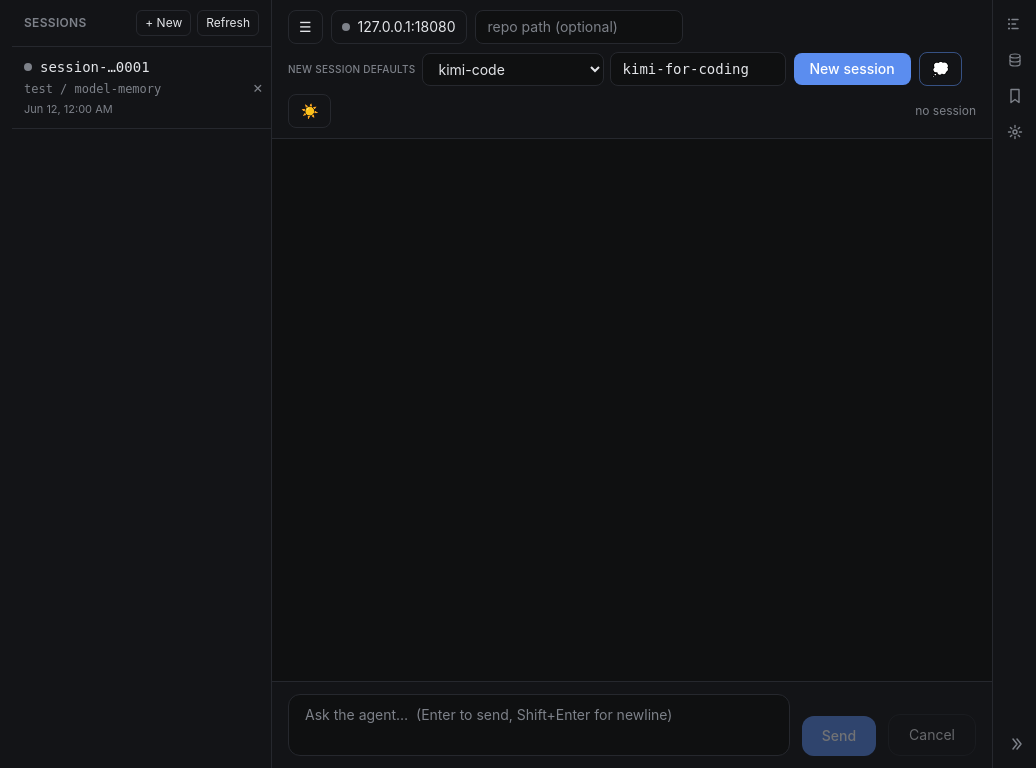
Test: App session switching › applies only the latest refreshMemory response when same-session refreshes resolve out of order
Step 1. Click the button "session-…0001 test / model-memory Jun 12, 12:00 AM" → [128, 87], box [12, 47, 244, 128]
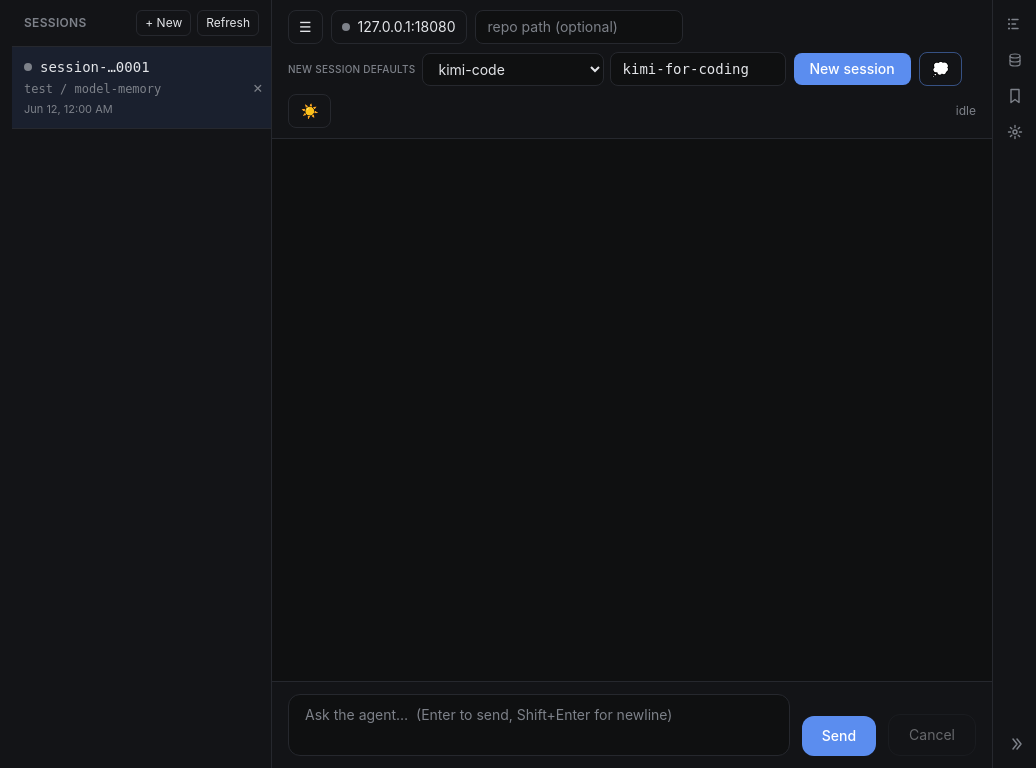
Expected: the text "idle" is shown, [956, 103, 976, 119]
Step 2. Click the button named "Toggle memory panel" → [1014, 60], box [998, 44, 1030, 76]
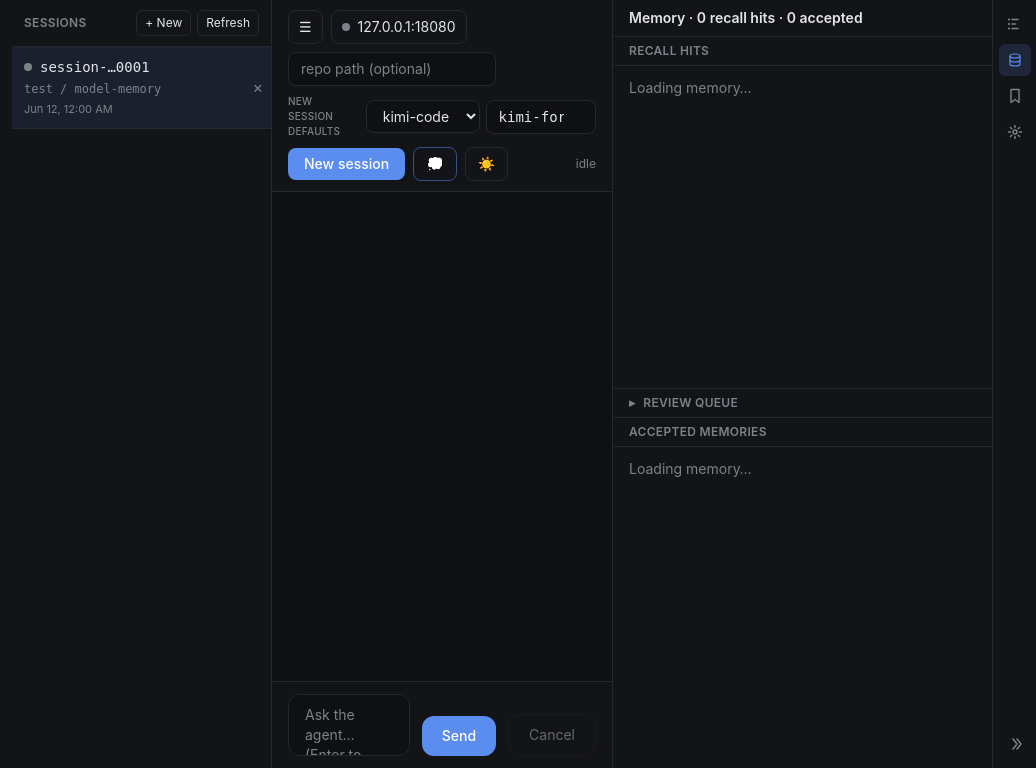
Step 3. Type "hi" into the text box with placeholder "Ask the agent… (Enter to send, Shift+Enter for newline)" → [349, 725], box [288, 694, 410, 756]
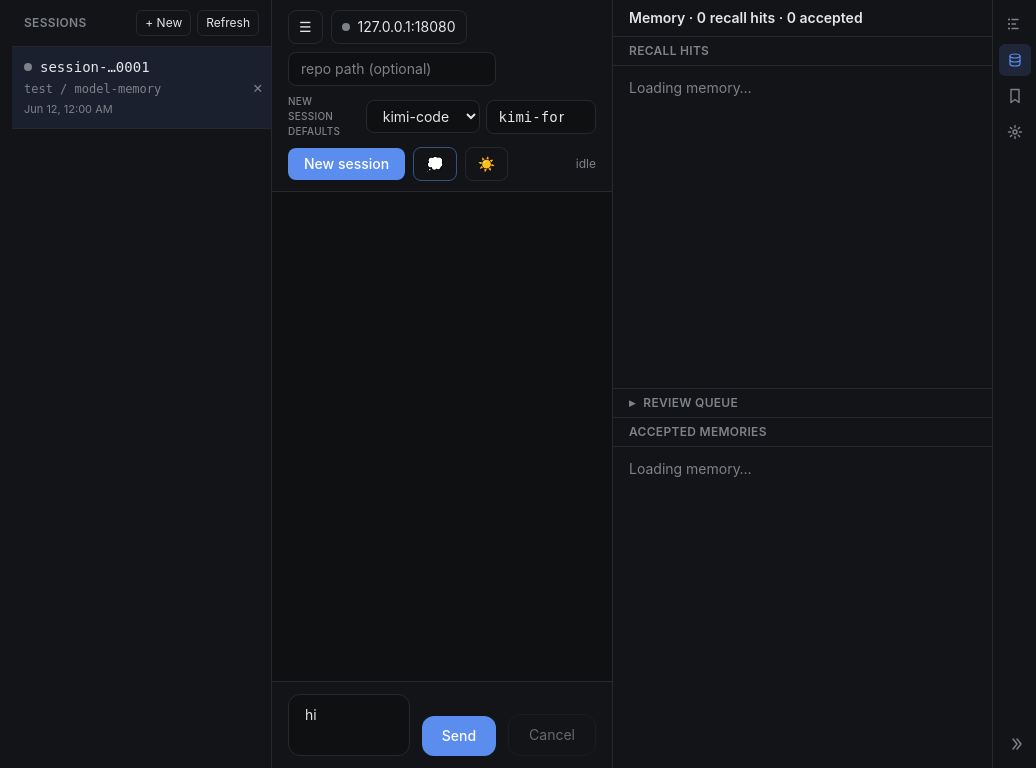
Step 4. Click the button "Send" → [459, 736], box [422, 716, 496, 756]
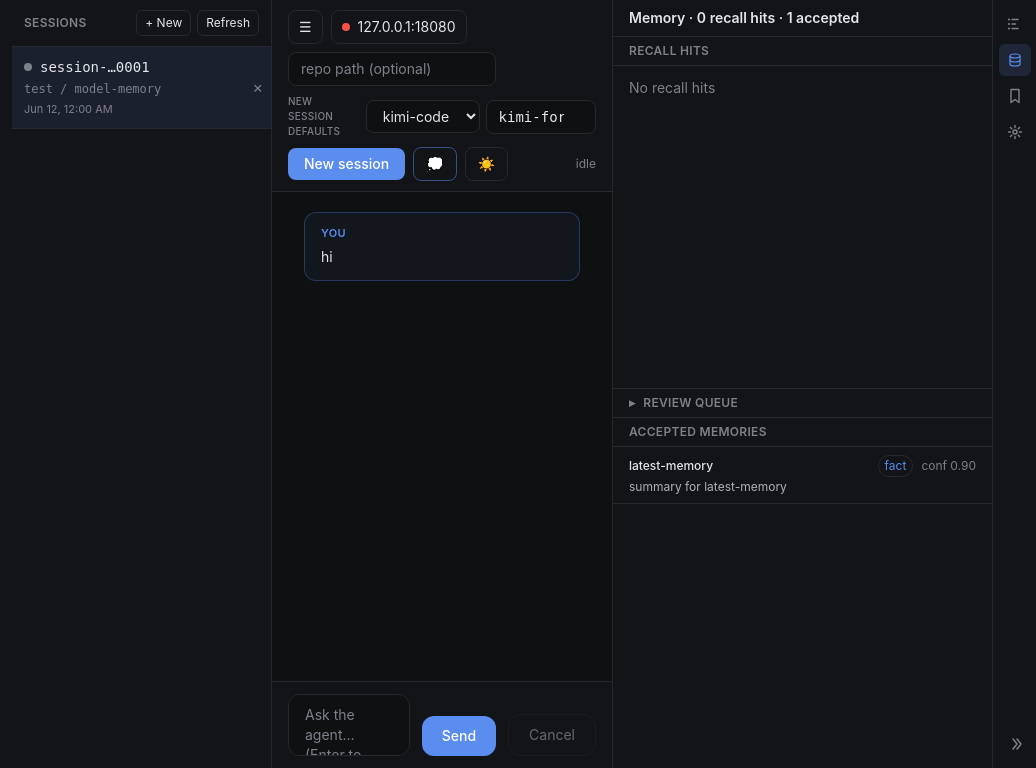
Expected: the text "latest-memory" is shown, [629, 458, 713, 472]
